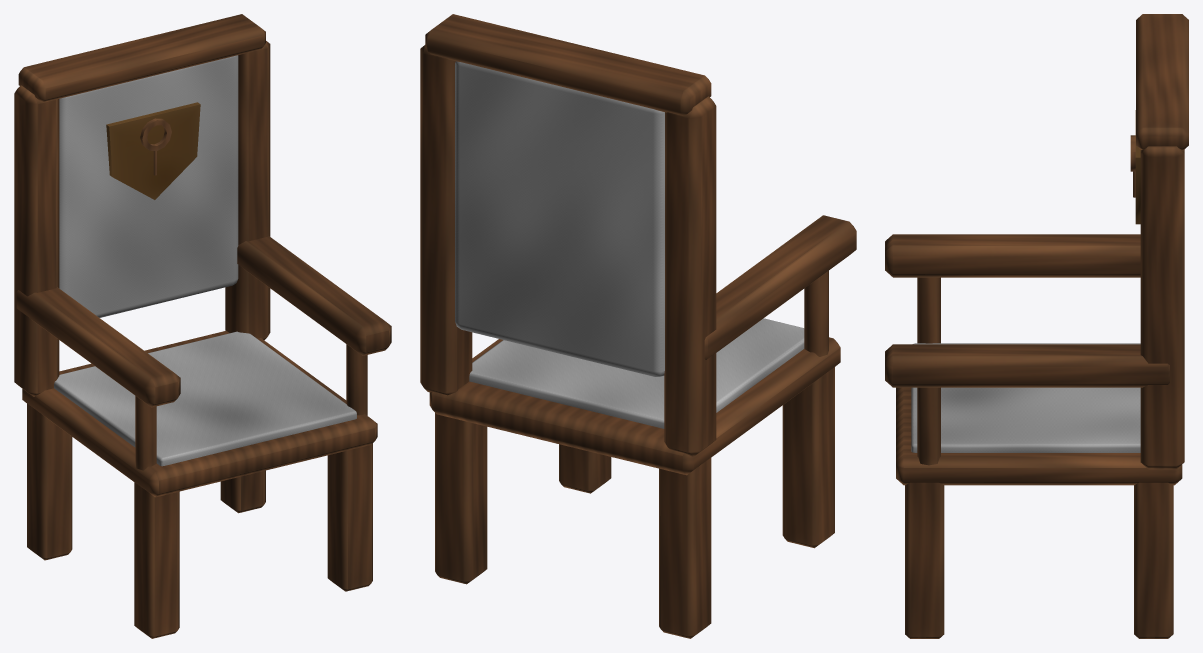
Rendered from Furn_Council_PresidentChair.fbx.
The picture shows the model from 3 angles, left to right: view 1: azimuth 30°, elevation 25°; view 2: azimuth 150°, elevation 25°; view 3: azimuth 270°, elevation 25°; orthographic projection. The views are drawn at different scales.
Visible parts, largest first — view 1: Furn_Council_PresidentChair; view 2: Furn_Council_PresidentChair; view 3: Furn_Council_PresidentChair.
Boxes of the visible parts, x1,y1,x2,y2 form: Furn_Council_PresidentChair: (14,14,391,638); Furn_Council_PresidentChair: (420,14,856,638); Furn_Council_PresidentChair: (885,14,1188,638).
Size of the model in its own units: 0.7 by 1.3 by 0.7.
3 materials, 3 textured.
